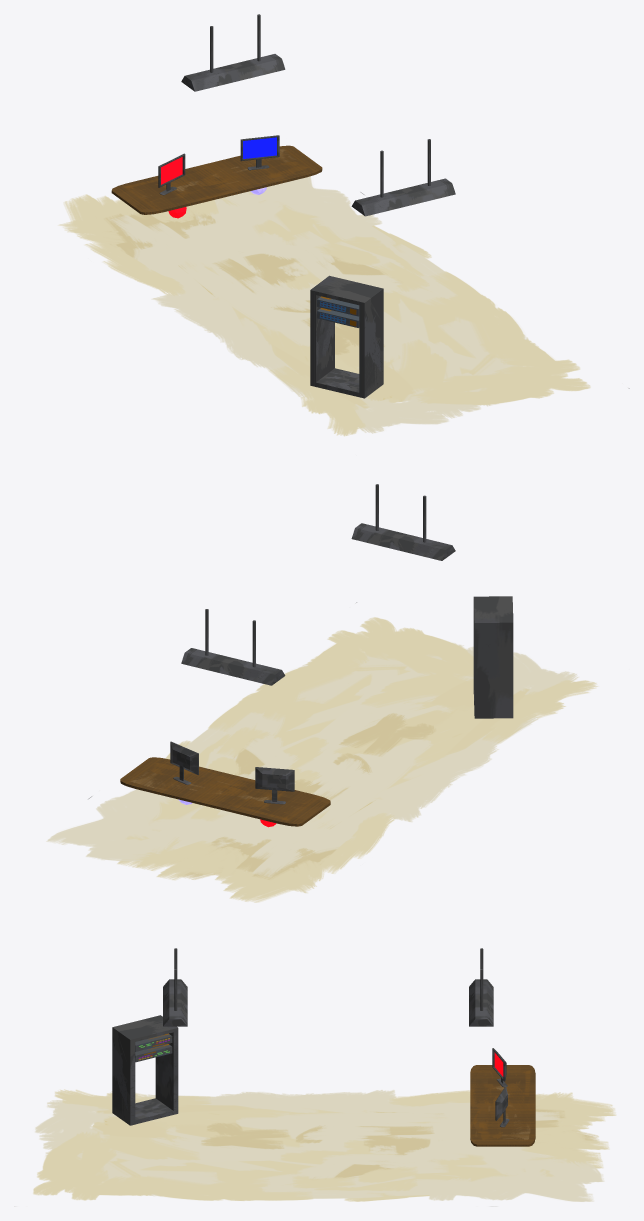
File: Escena amc.glb
3 renders of one model, top to bottom at view 1: azimuth 30°, elevation 25°; view 2: azimuth 150°, elevation 25°; view 3: azimuth 270°, elevation 25°, orthographic. The views are drawn at different scales.
Parts seen in each view (by area): view 1: suelo, rack cargado, Plane, lampara, lampara.001, Monitor 2, Monitor; view 2: suelo, Plane, rack cargado, lampara, lampara.001, Monitor, Monitor 2; view 3: suelo, rack cargado, Plane, lampara, lampara.001, Monitor, Monitor 2.
Part boxes in pixels (x1,y1,x2,y2): suelo: (58,176,629,436); rack cargado: (310,275,383,398); Plane: (111,145,322,214); lampara: (351,139,455,216); lampara.001: (181,14,285,91); Monitor 2: (240,135,279,170); Monitor: (158,153,185,195); suelo: (46,602,598,902); Plane: (120,757,330,826); rack cargado: (473,596,513,718); lampara: (351,484,455,560); lampara.001: (181,609,285,685); Monitor: (255,767,294,804); Monitor 2: (170,741,198,784); suelo: (14,1089,616,1206); rack cargado: (112,1015,178,1125); Plane: (470,1065,535,1146); lampara: (163,948,187,1026); lampara.001: (469,948,493,1026); Monitor: (492,1048,507,1087); Monitor 2: (495,1087,509,1127).
Size of the model in its own units: 16.36 by 12.04 by 35.6.
10 materials, 7 textured.
